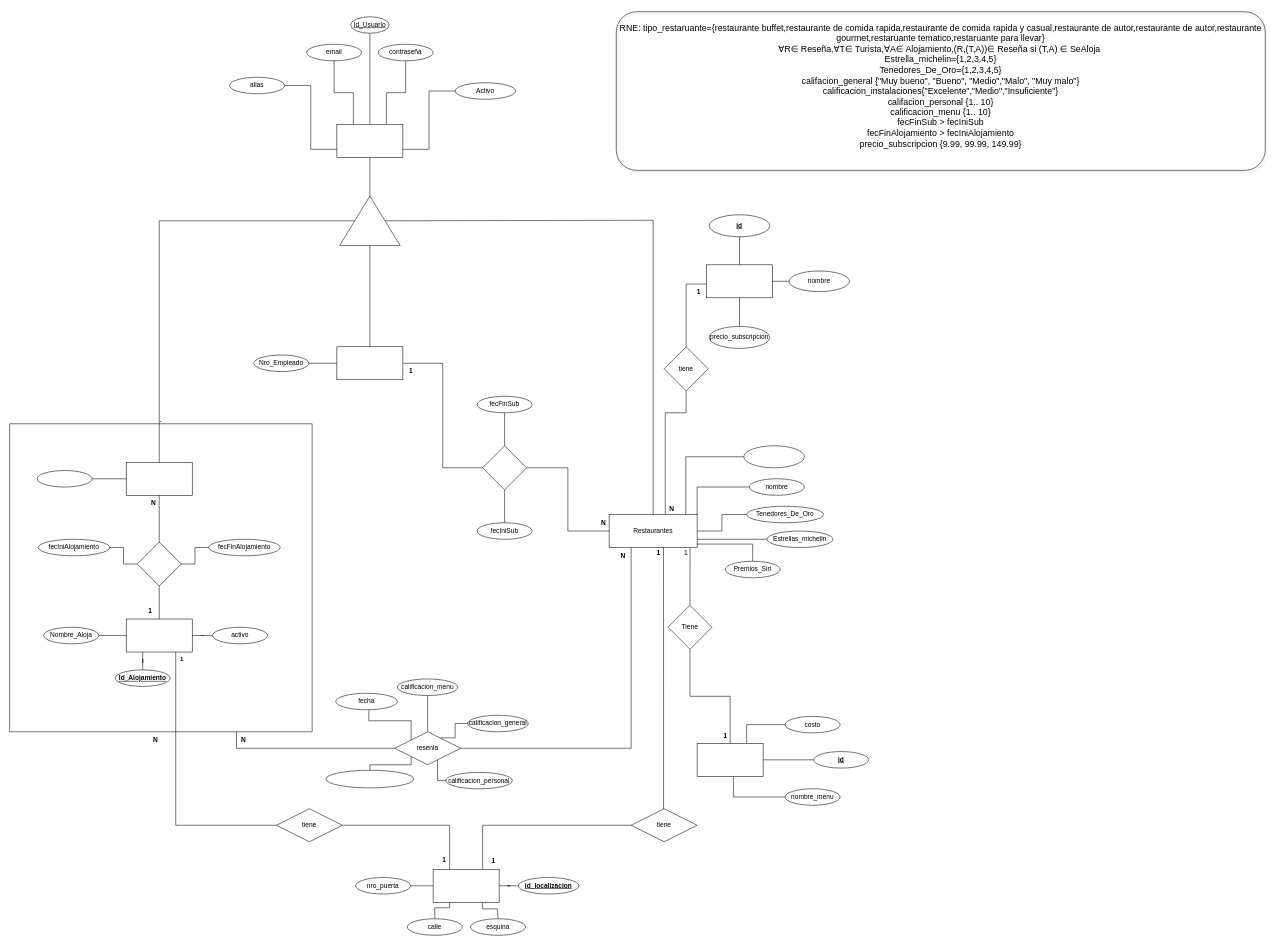
Image size: 1278x950. Some labels were removed from this diagram. Here are the shapes that lost their labels. From the top down, the centre of each, then its label:
point 369,141: USUARIOS
point 369,221: TIPO
point 739,281: tipo_subscripcion
point 369,363: Admin
point 504,467: Aprueba
point 773,456: tipo_restaurante
point 64,478: Nacionalidad
point 159,478: Turista
point 159,563: SeAloja
point 159,635: Alojamiento
point 369,779: calificacion_instalaciones
point 730,759: MenuRestaurantes
point 466,885: Localizacion
